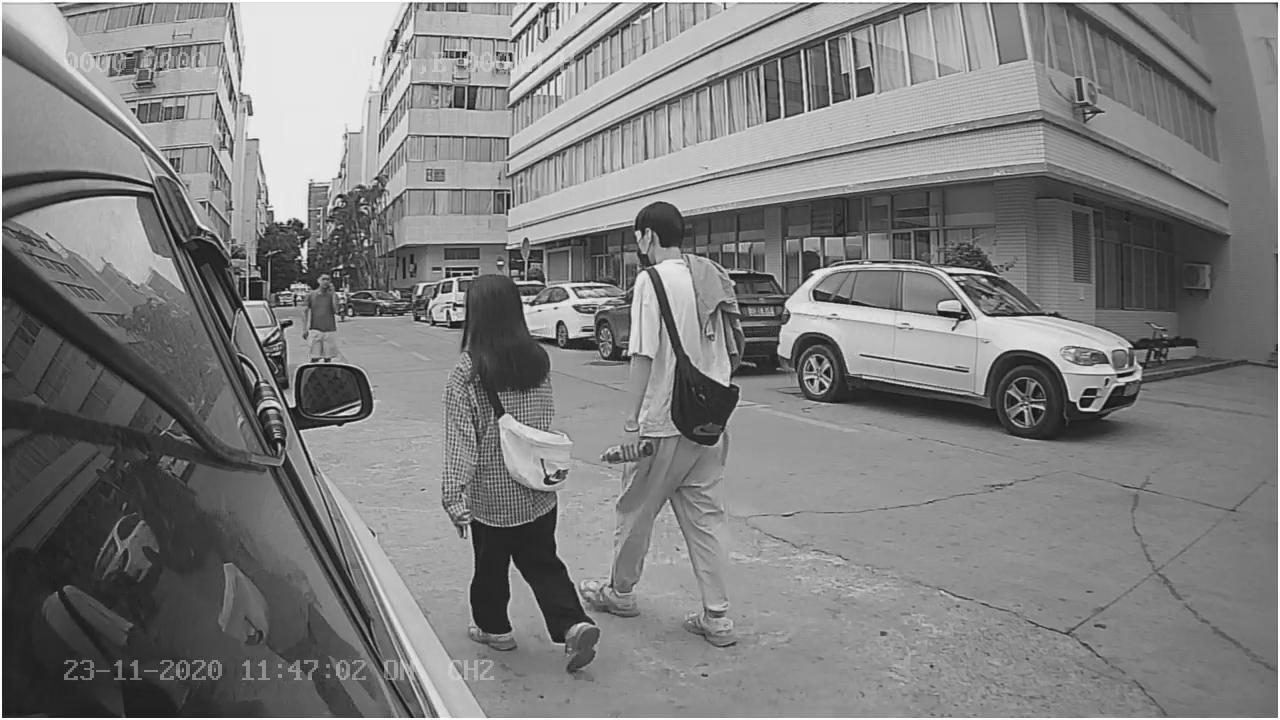person: (609, 198, 753, 645), (443, 267, 601, 665)
